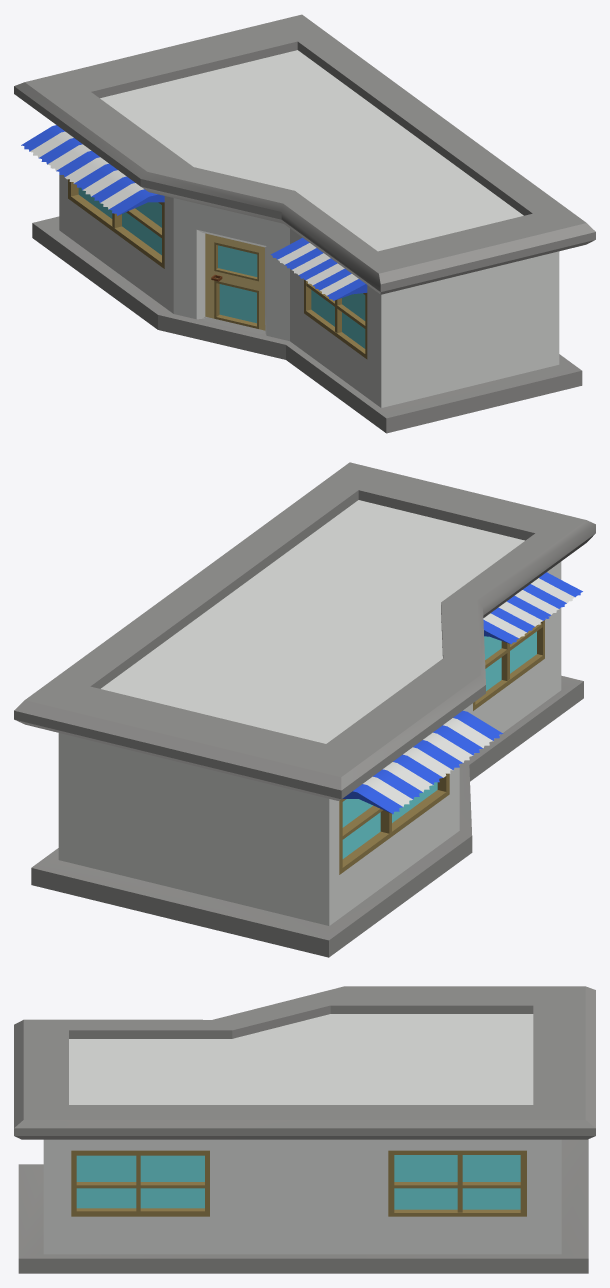
Rendered from Edificio_3 (2).fbx.
3 renders of one model, top to bottom at view 1: azimuth 30°, elevation 25°; view 2: azimuth 150°, elevation 25°; view 3: azimuth 270°, elevation 25°, orthographic. The views are drawn at different scales.
Visible parts, largest first — view 1: Edificio_3 (Tienda_2); view 2: Edificio_3 (Tienda_2); view 3: Edificio_3 (Tienda_2).
Part boxes in pixels (left/top/right/bottom): Edificio_3 (Tienda_2): left=14, top=14, right=595, bottom=433; Edificio_3 (Tienda_2): left=14, top=462, right=595, bottom=957; Edificio_3 (Tienda_2): left=14, top=986, right=595, bottom=1273.
Size of the model in its own units: 1555 by 770 by 2583.
